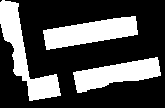parkingspot: (43, 16, 137, 49), (73, 57, 160, 92), (0, 0, 29, 80), (27, 74, 60, 100)
